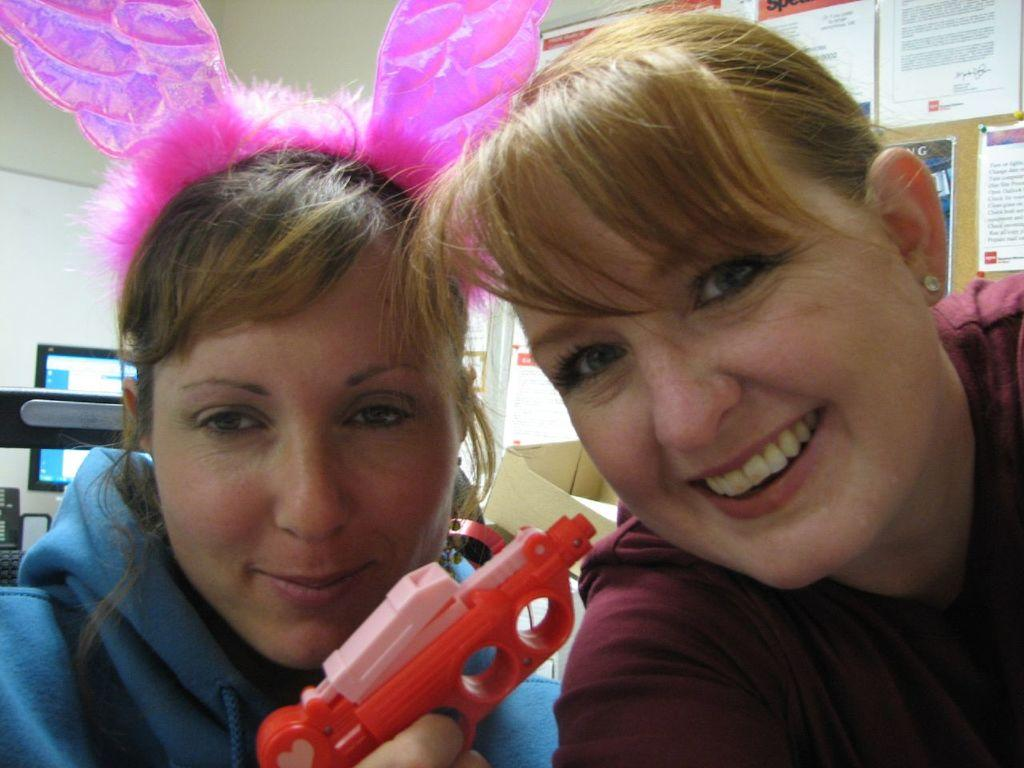Handgun: (255, 512, 598, 767)
